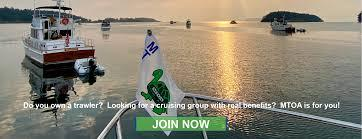Ship: (21, 3, 111, 81), (269, 14, 298, 38)
